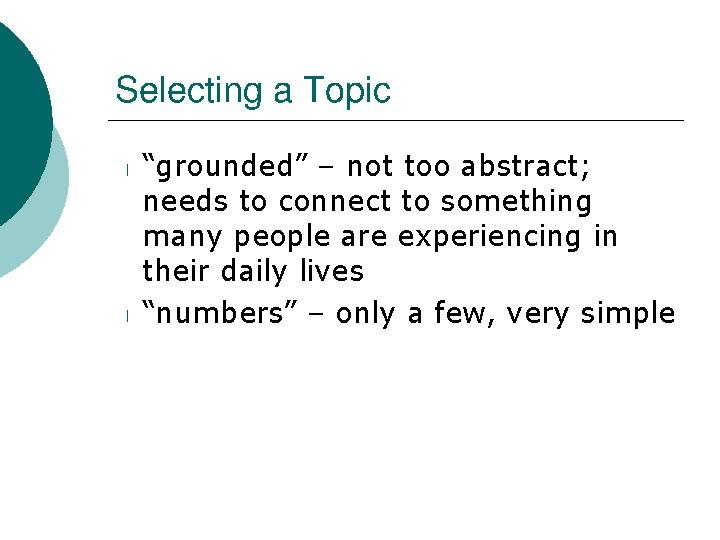paragraph: (116, 136, 698, 363)
title: (107, 63, 414, 112)
